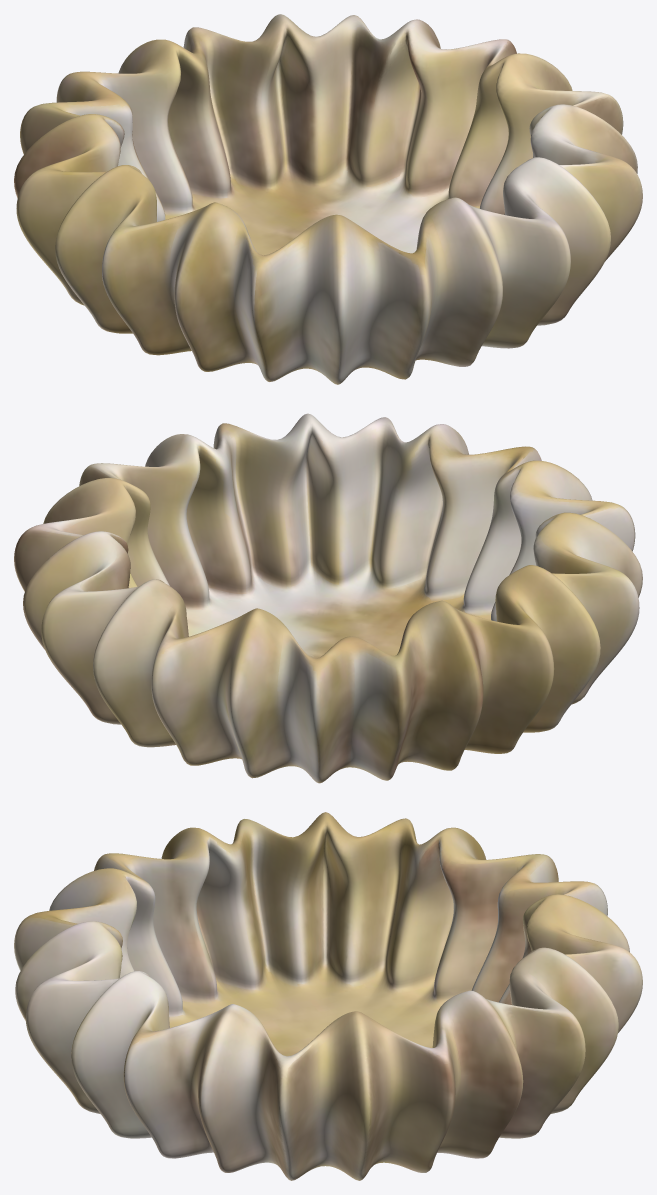
3 views of the same model, one above another, from view 1: azimuth 30°, elevation 25°; view 2: azimuth 150°, elevation 25°; view 3: azimuth 270°, elevation 25° (orthographic).
Visible parts, largest first — view 1: vaza-01; view 2: vaza-01; view 3: vaza-01.
Boxes of the visible parts, x1,y1,x2,y2 form: vaza-01: (14,14,642,384); vaza-01: (14,413,642,783); vaza-01: (14,812,642,1180).
Bounding box in the file's own units: 0.2946 × 0.0926 × 0.2958.
1 material, 1 textured.
